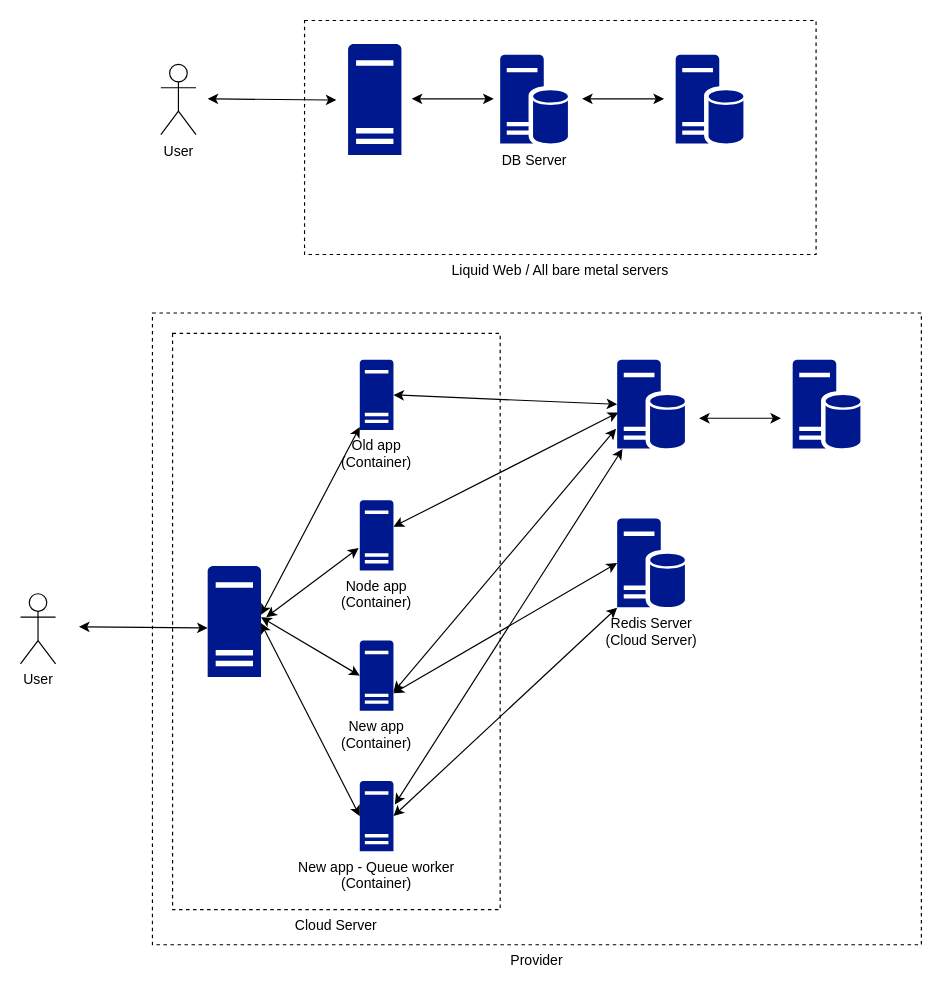
Image size: 942x990. Some labels were removed from this diagram. The centre of each missing label's shape, as x and y in pixels:
"DB Server (Replica)" belongs at pixel 709 98.
"Gateway (Directly on Cloud Server)" belongs at pixel 233 620.
"SQL DB Server (Cloud Server)" belongs at pixel 650 403.
"SQL DB Server Replica (Cloud - Other region)" belongs at pixel 826 403.
"Web App (All environments and apps)" belongs at pixel 374 98.
